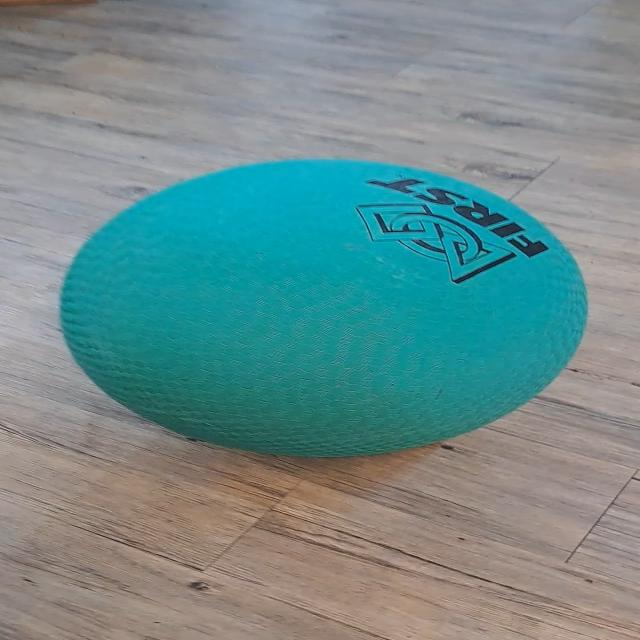ALGAE: (56, 156, 590, 460)
